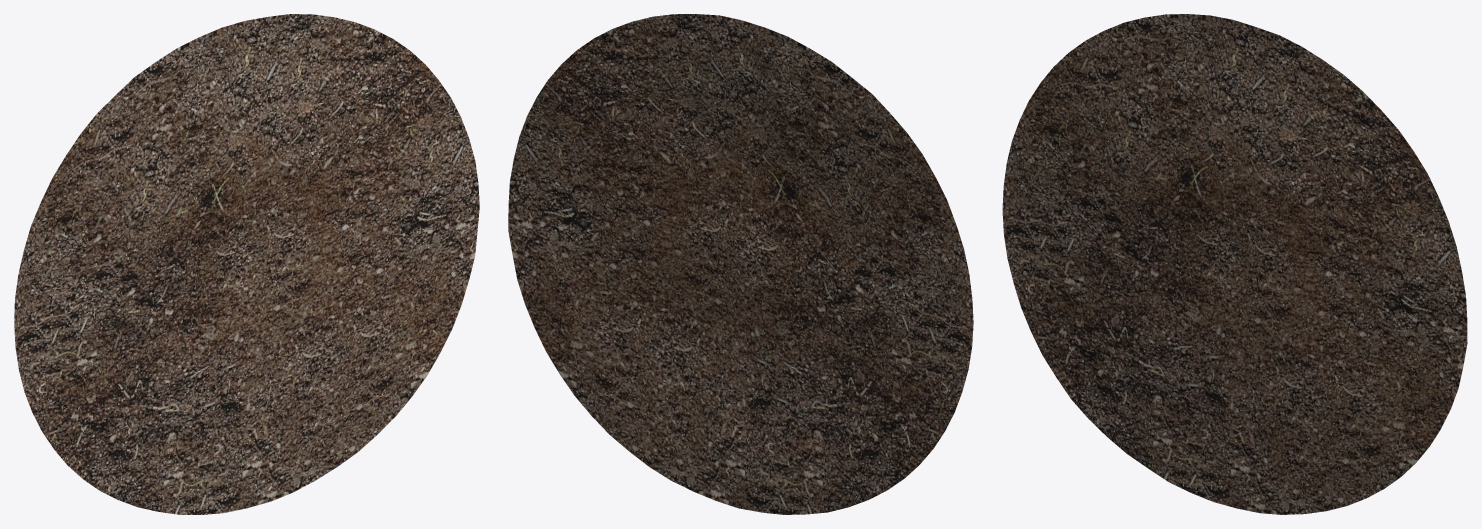
Rendered from CactusSoil.obj.
The picture shows the model from 3 angles, left to right: view 1: azimuth 30°, elevation 25°; view 2: azimuth 150°, elevation 25°; view 3: azimuth 330°, elevation 25°; orthographic projection.
Visible parts, largest first — view 1: CactusSoil; view 2: CactusSoil; view 3: CactusSoil.
Part boxes in pixels (x1,y1,x2,y2): CactusSoil: (14, 14, 479, 514); CactusSoil: (508, 14, 973, 514); CactusSoil: (1002, 14, 1467, 514).
Size of the model in its own units: 0.228 by 0.2287 by 0.00544.
1 material, 1 textured.
